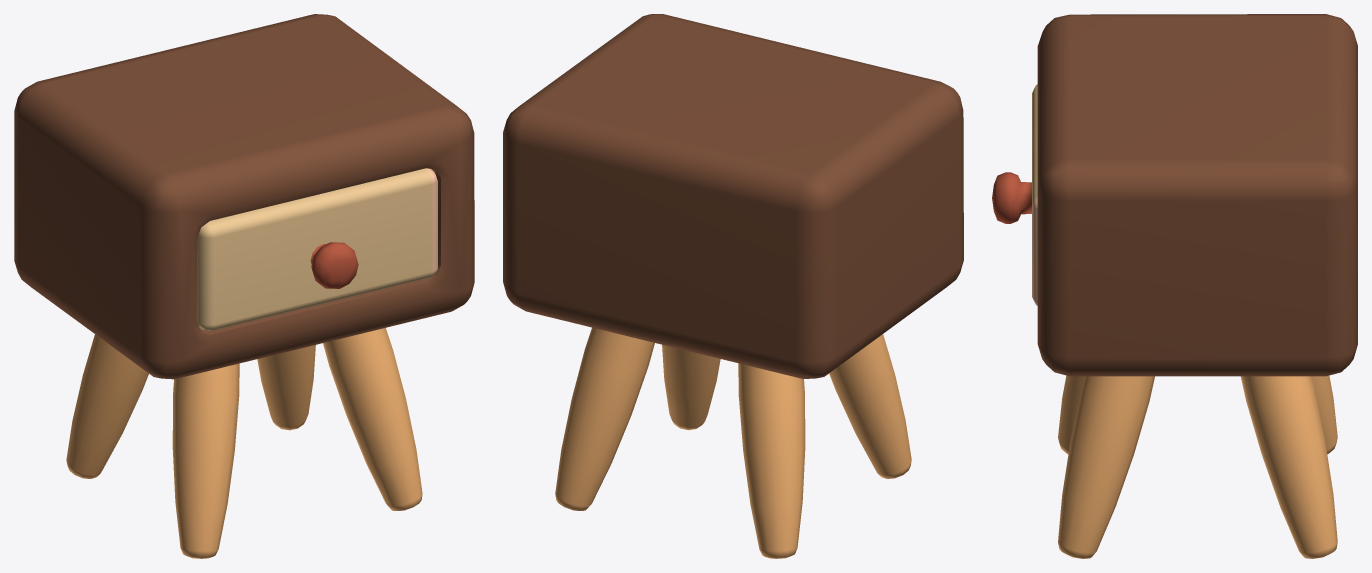
File: criado_gaveta_palito_marrom_pacote.glb
3 views of the same model, side by side, from view 1: azimuth 30°, elevation 25°; view 2: azimuth 150°, elevation 25°; view 3: azimuth 270°, elevation 25° (orthographic). The views are drawn at different scales.
Visible parts, largest first — view 1: criado_gaveta_palito_marrom_pacote, gaveta_1; view 2: criado_gaveta_palito_marrom_pacote; view 3: criado_gaveta_palito_marrom_pacote, gaveta_1.
Boxes of the visible parts, x1,y1,x2,y2 form: criado_gaveta_palito_marrom_pacote: [14, 14, 474, 558]; gaveta_1: [197, 168, 437, 330]; criado_gaveta_palito_marrom_pacote: [503, 14, 963, 558]; criado_gaveta_palito_marrom_pacote: [1037, 14, 1357, 558]; gaveta_1: [992, 84, 1037, 305].
Size of the model in its own units: 0.5 by 0.575 by 0.4572.
1 material, 1 textured.
